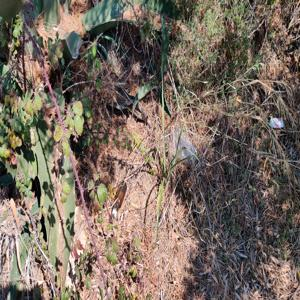plastic: (166, 130, 210, 177), (257, 106, 288, 128)
